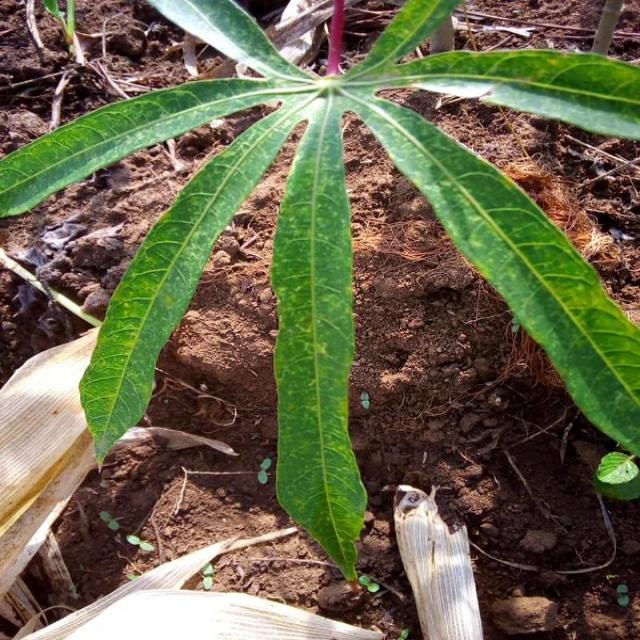cassava leaf: (1, 0, 638, 585), (270, 92, 367, 583)
